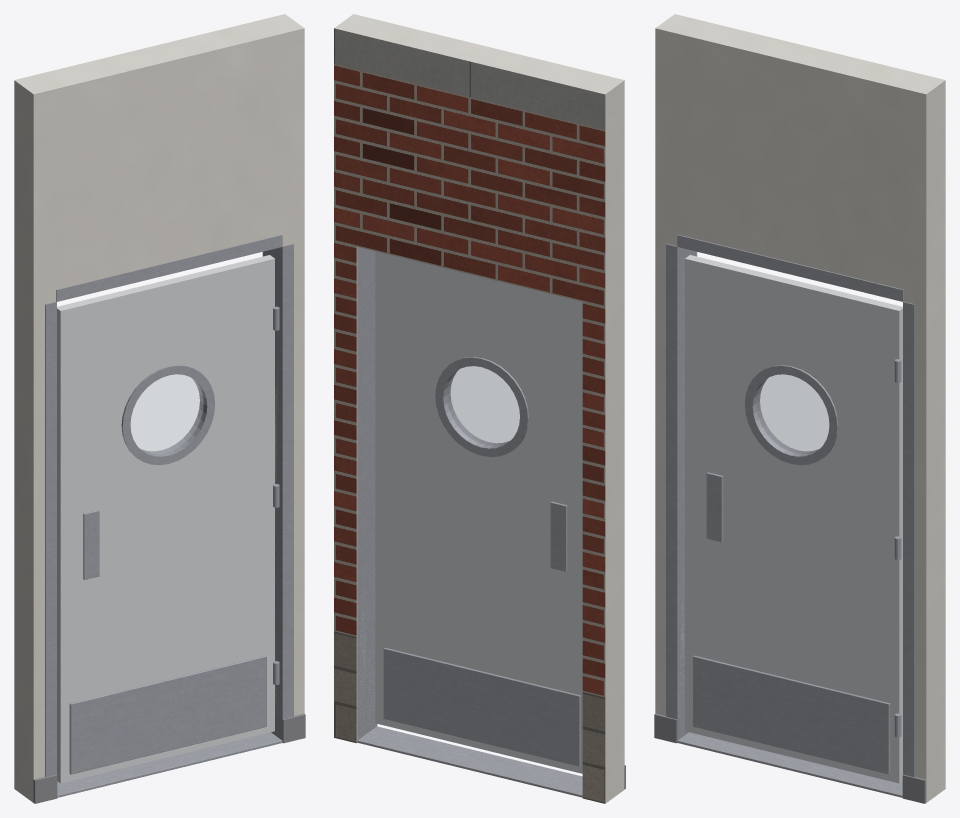
Rendered from wall_swing_door_120.glb.
The picture shows the model from 3 angles, left to right: view 1: azimuth 30°, elevation 25°; view 2: azimuth 150°, elevation 25°; view 3: azimuth 330°, elevation 25°; orthographic projection.
Parts seen in each view (by area): view 1: wall_swing_door_120-col, door; view 2: wall_swing_door_120-col, door; view 3: wall_swing_door_120-col, door.
Boxes of the visible parts, box(x1,y1,x2,y2) form: wall_swing_door_120-col: box(14, 14, 305, 803); door: box(57, 255, 279, 783); wall_swing_door_120-col: box(334, 14, 625, 803); door: box(375, 251, 582, 773); wall_swing_door_120-col: box(654, 14, 945, 803); door: box(685, 255, 902, 783).
Size of the model in its own units: 1.2 by 3 by 0.1625.
8 materials, 5 textured.
